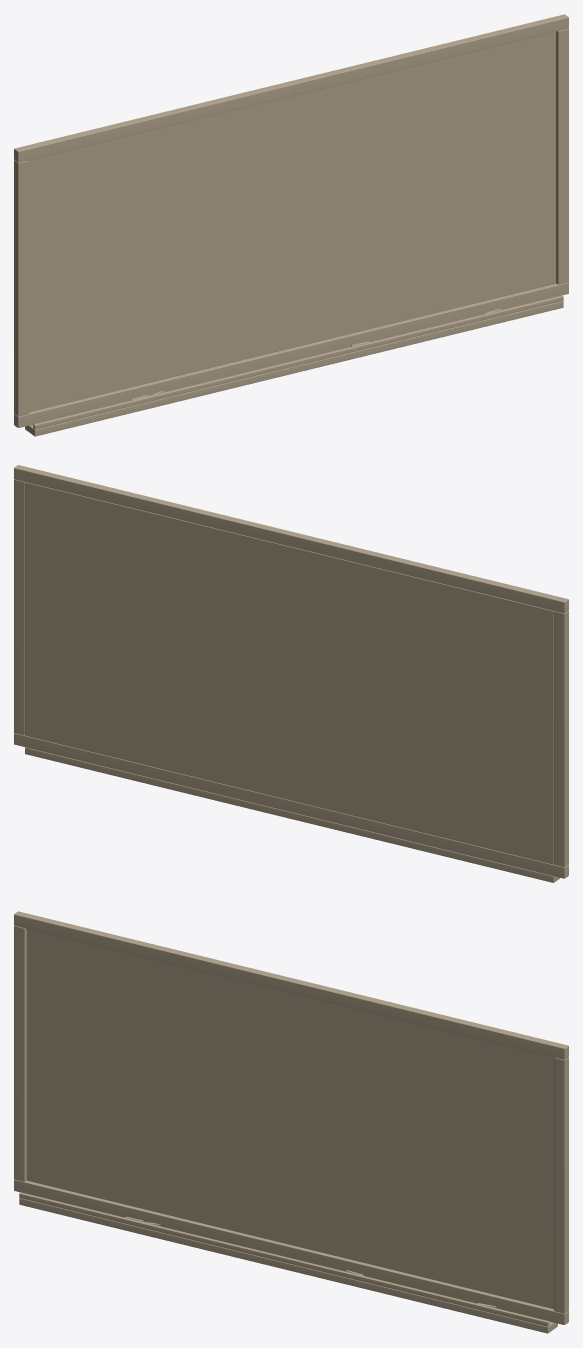
File: blackboard.glb
3 views of the same model, one above another, from view 1: azimuth 30°, elevation 25°; view 2: azimuth 150°, elevation 25°; view 3: azimuth 330°, elevation 25° (orthographic).
Visible parts, largest first — view 1: blackboard; view 2: blackboard; view 3: blackboard.
Part boxes in pixels (left/top/right/bottom): blackboard: left=14, top=14, right=568, bottom=436; blackboard: left=14, top=465, right=568, bottom=882; blackboard: left=14, top=911, right=568, bottom=1333.
Bounding box in the file's own units: 2.5 × 1.23 × 0.08.
